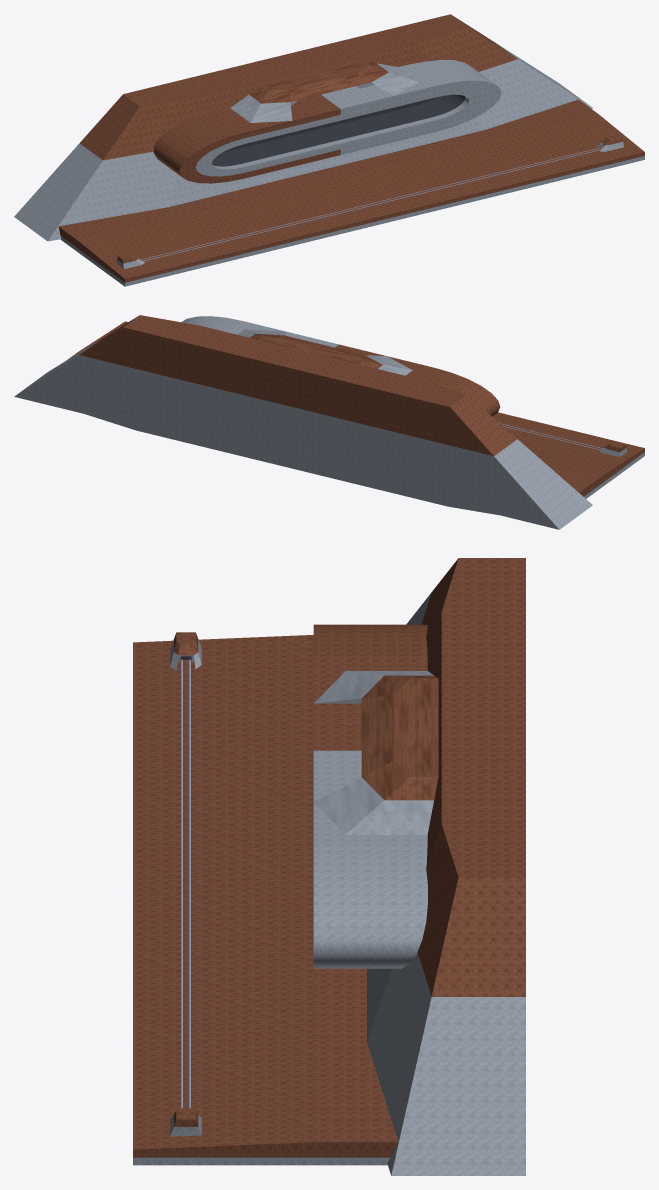
The model's file is shipExteriorV2.fbx.
3 views of the same model, one above another, from view 1: azimuth 30°, elevation 25°; view 2: azimuth 150°, elevation 25°; view 3: azimuth 270°, elevation 25° (orthographic). The views are drawn at different scales.
Visible parts, largest first — view 1: mergedBlocks; view 2: mergedBlocks; view 3: mergedBlocks.
Boxes of the visible parts, box(x1,y1,x2,y2) form: mergedBlocks: box(14, 14, 644, 286); mergedBlocks: box(14, 315, 644, 529); mergedBlocks: box(133, 558, 525, 1175).
Bounding box in the file's own units: 962 × 177 × 300.
